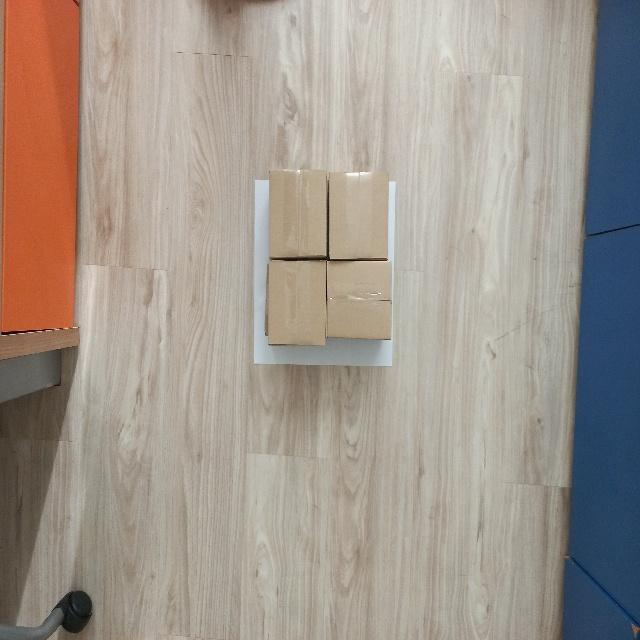box: (328, 171, 388, 259), (327, 260, 393, 340), (267, 259, 327, 347), (269, 170, 327, 258)
